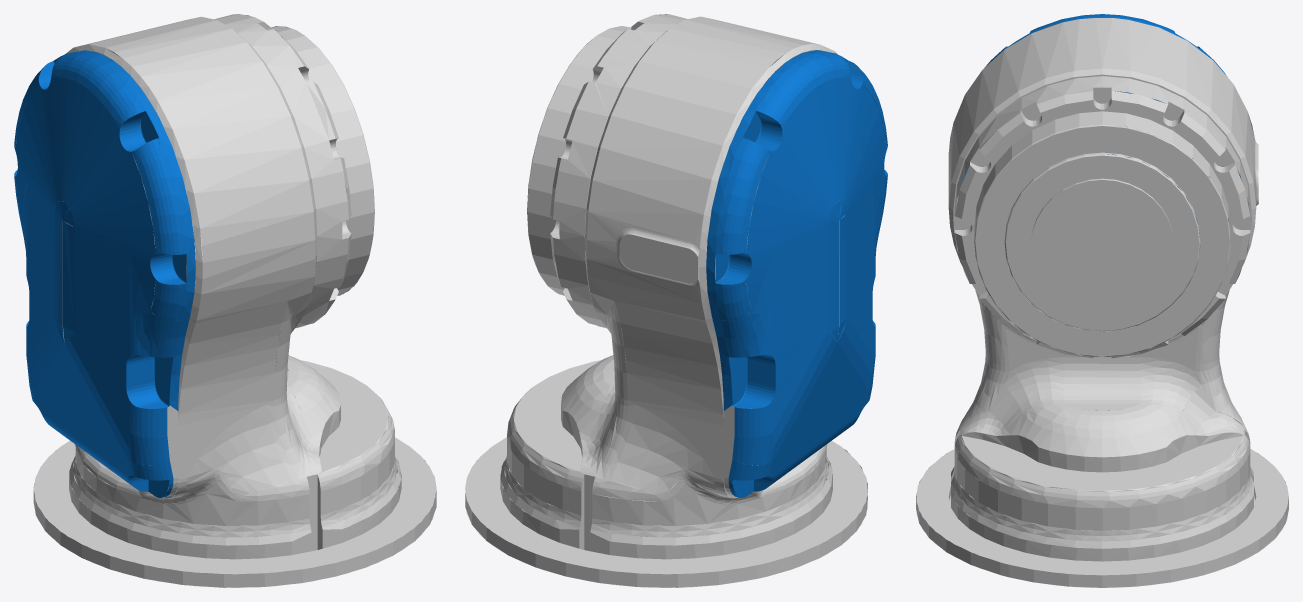
File: arm_left_link_1_s.dae
3 renders of one model, left to right at view 1: azimuth 30°, elevation 25°; view 2: azimuth 150°, elevation 25°; view 3: azimuth 270°, elevation 25°, orthographic. The views are drawn at different scales.
Parts seen in each view (by area): view 1: ShapeIndexedFaceSet_001, ShapeIndexedFaceSet; view 2: ShapeIndexedFaceSet_001, ShapeIndexedFaceSet; view 3: ShapeIndexedFaceSet_001, ShapeIndexedFaceSet.
Part boxes in pixels (x1,y1,x2,y2): ShapeIndexedFaceSet_001: (33, 14, 436, 587); ShapeIndexedFaceSet: (14, 50, 195, 497); ShapeIndexedFaceSet_001: (465, 14, 867, 587); ShapeIndexedFaceSet: (706, 50, 887, 497); ShapeIndexedFaceSet_001: (916, 18, 1288, 587); ShapeIndexedFaceSet: (963, 14, 1241, 380).
Size of the model in its own units: 0.16 by 0.16 by 0.208.
